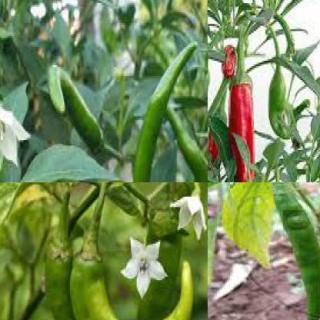green_chilli: (70, 237, 198, 319), (132, 36, 200, 182), (37, 236, 150, 319), (256, 182, 319, 320), (46, 60, 106, 158), (165, 110, 207, 182), (266, 66, 292, 138)
